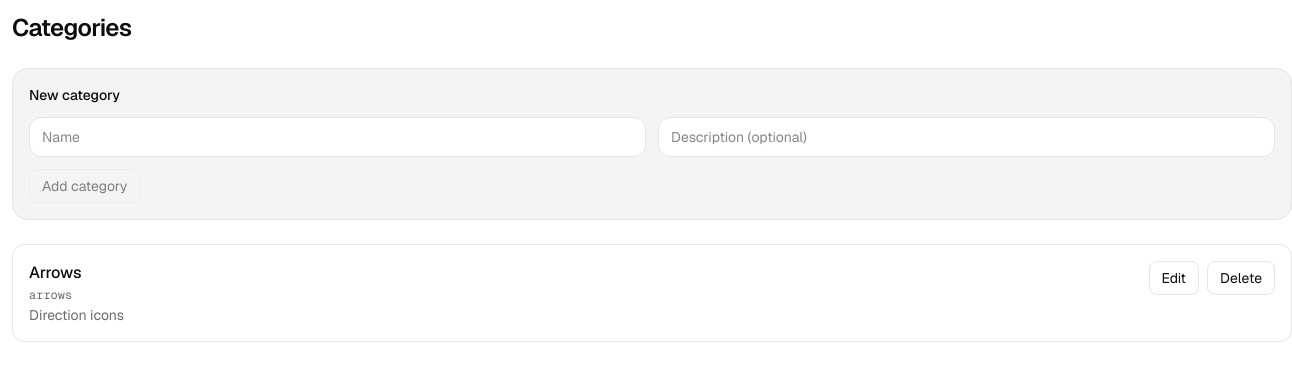
Scenario: <CategoriesAdmin /> › shows the API error when creating fails
The image size is (1292, 391).
Check: the text "Arrows" is shown, box [29, 262, 82, 283]
Type "Arrows" into the field named "New category name" at (338, 137), box [29, 117, 646, 157]
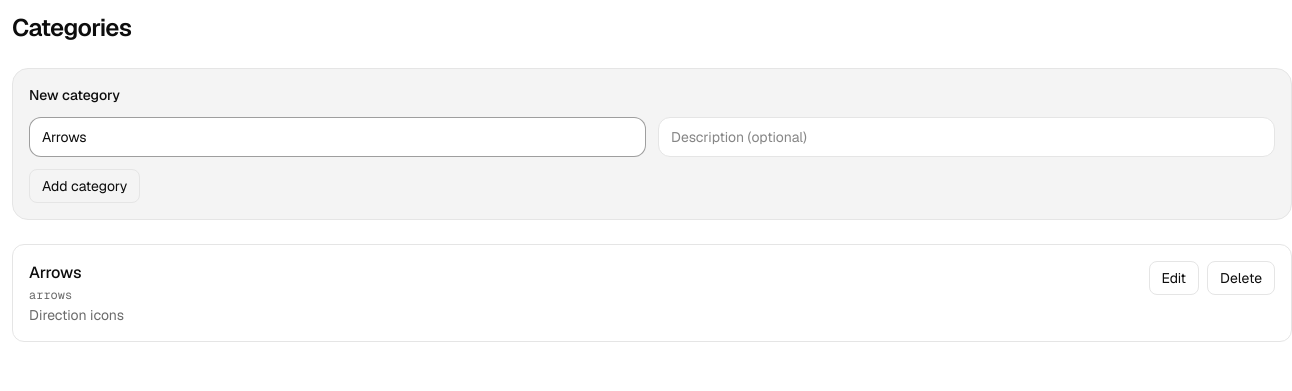
Click the button "Add category" at (85, 186), box [29, 169, 140, 203]
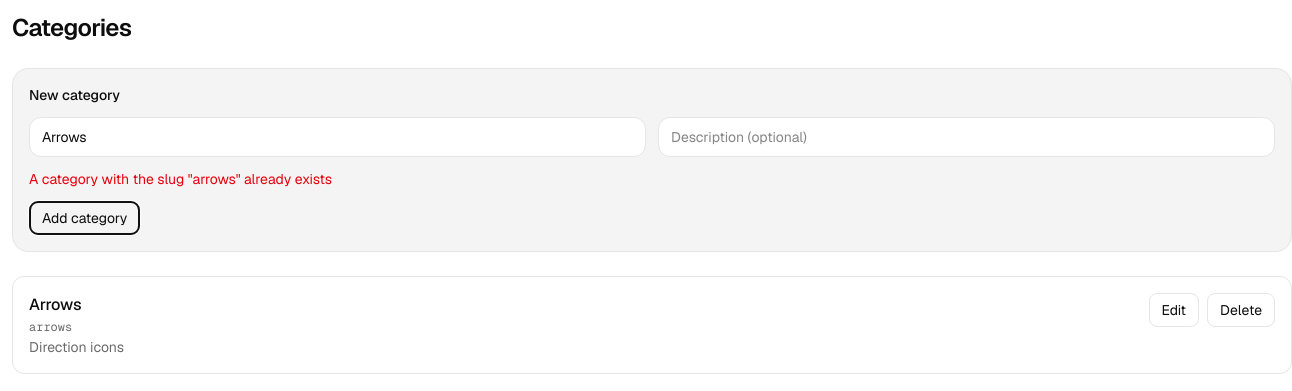
Check: the message shows "already exists", box [29, 170, 332, 188]
